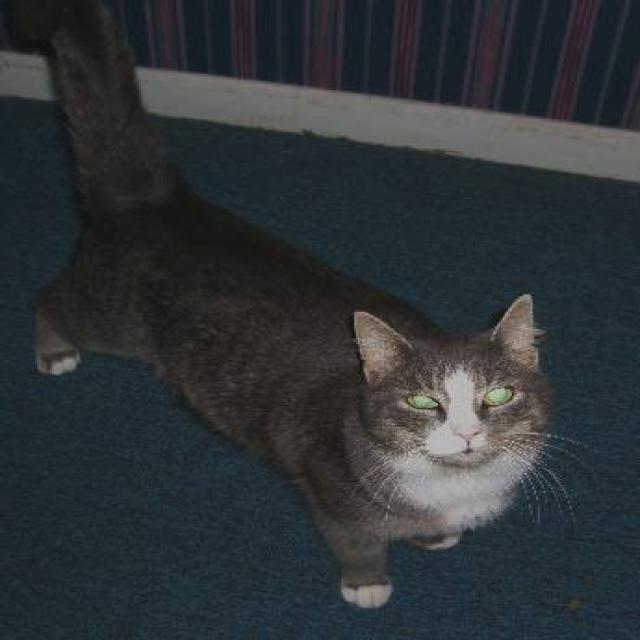cat: (7, 0, 590, 610)
